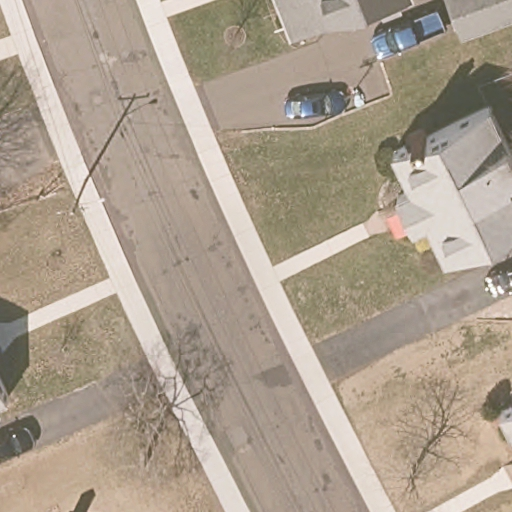DT: (55, 173, 105, 217)
